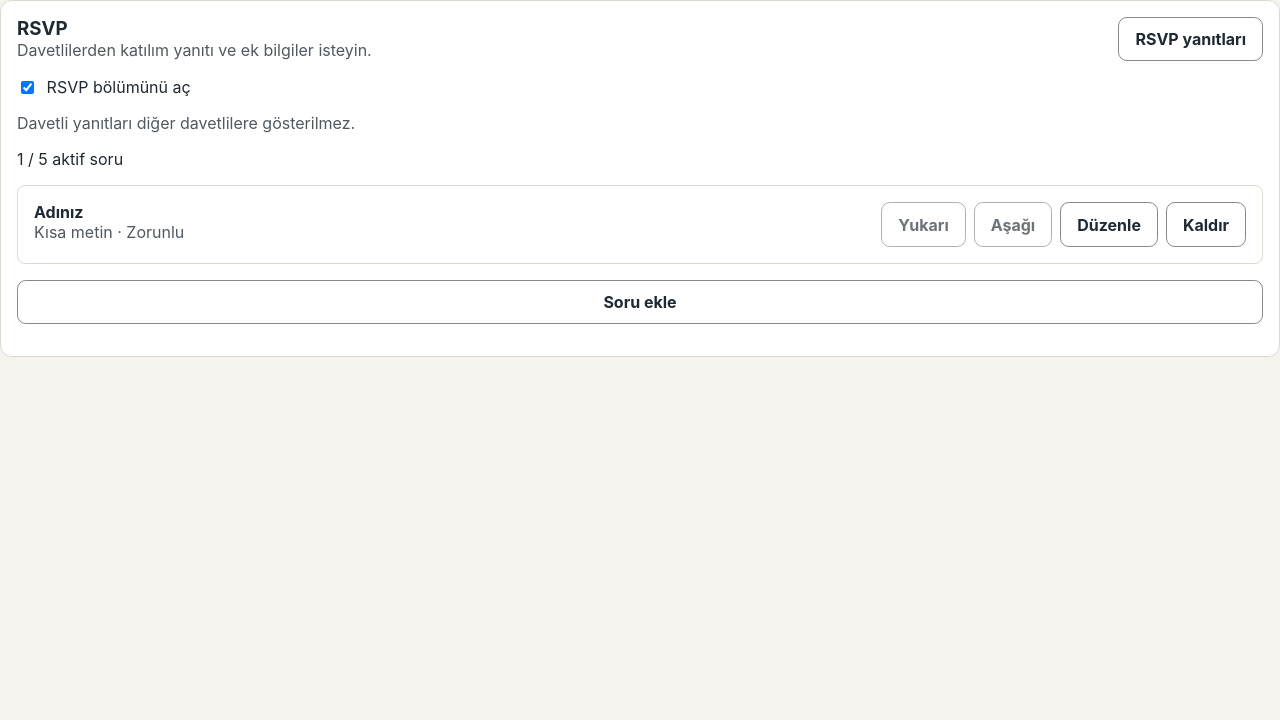
it: RsvpManagementPanel › shows the short-text limit and enforces the prompt character limit accessibly
Click the button with aria-label "Adınız sorusunu düzenle" at (1109, 225), box [1060,202,1158,247]
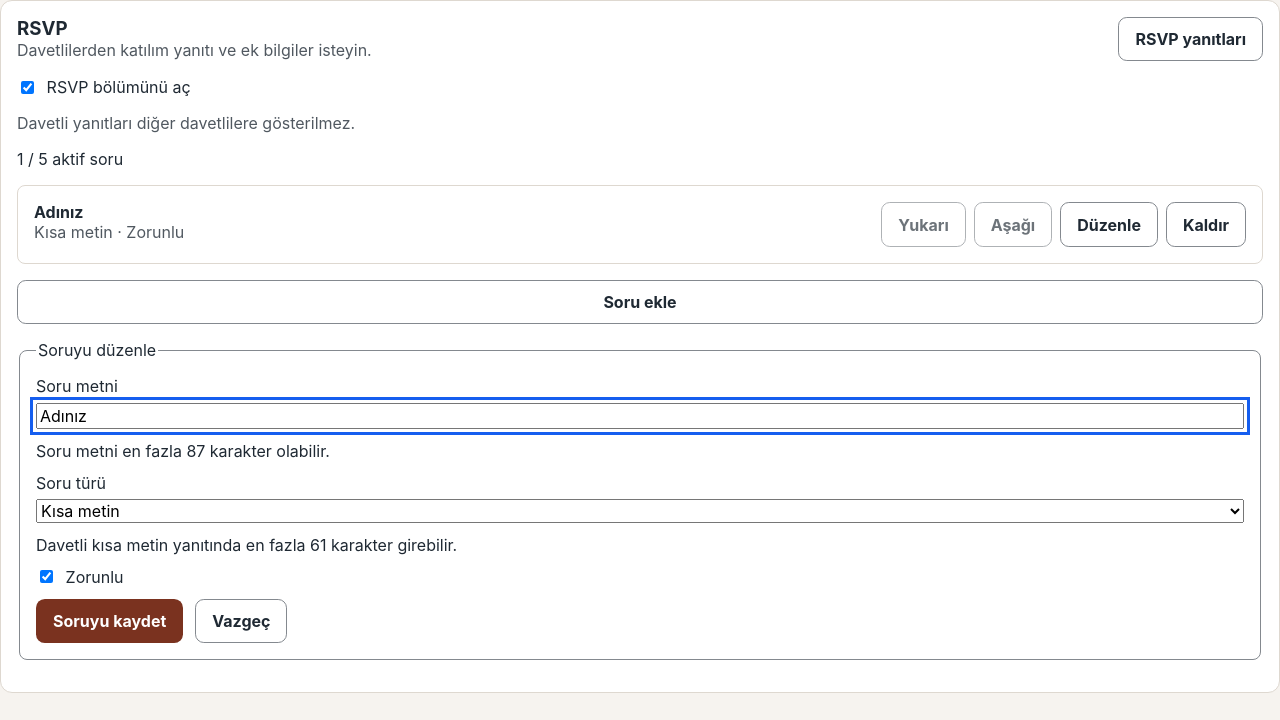
Expected: the text "Soru metni en fazla 87 karakter olabilir." is shown, [36,440,330,460]
Expected: the text "Davetli kısa metin yanıtında en fazla 61 karakter girebilir." is shown, [36,535,457,555]
Select "Uzun metin" in the dropdown labelled "Soru türü" at (640, 511), box [36,499,1244,523]
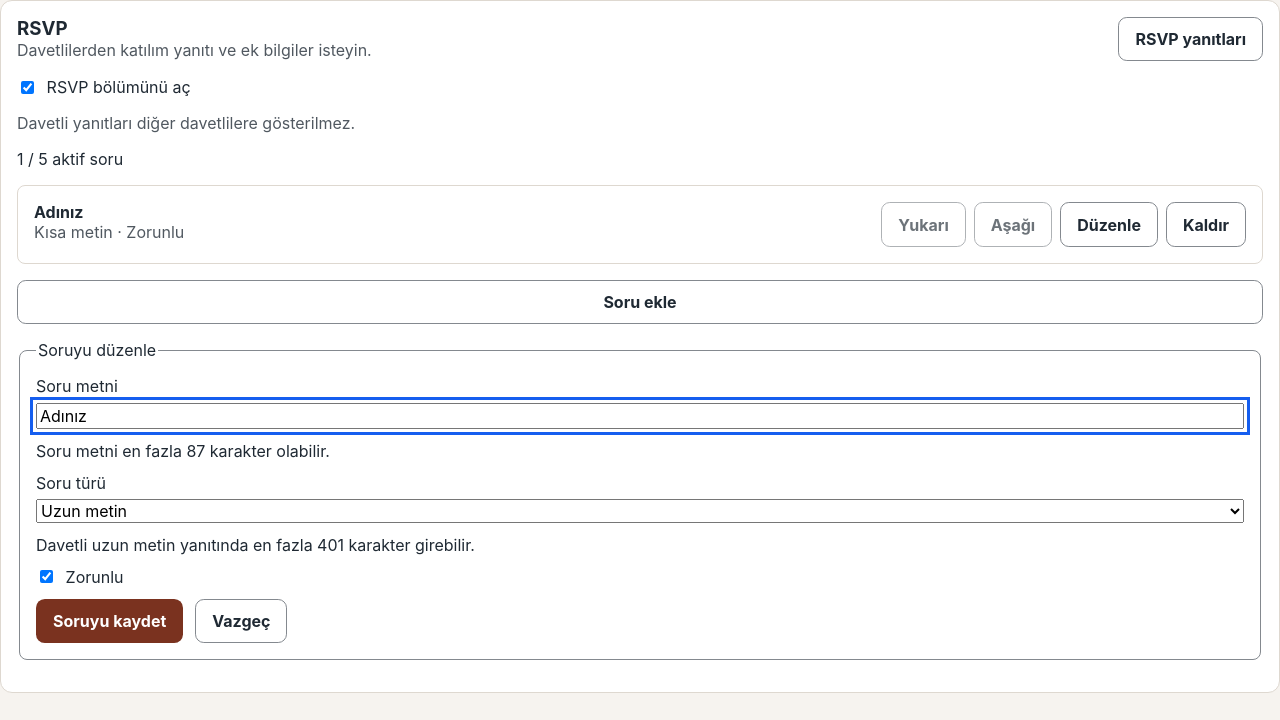
Expected: the text "Davetli uzun metin yanıtında en fazla 401 karakter girebilir." is shown, [36,535,475,555]
